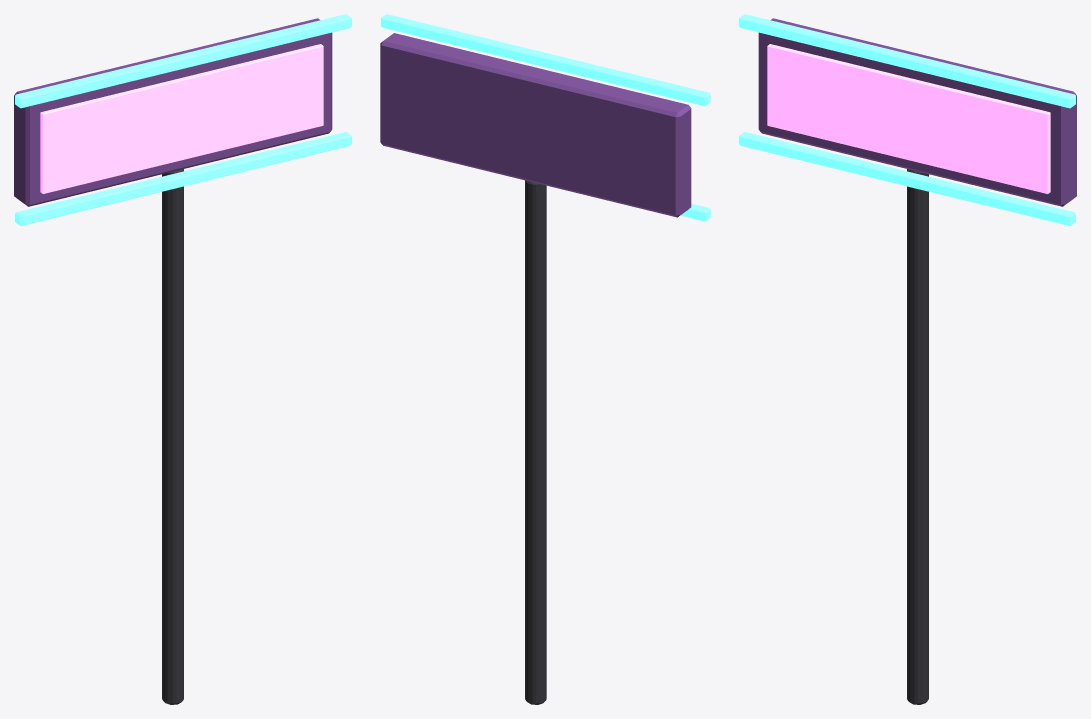
3 views of the same model, side by side, from view 1: azimuth 30°, elevation 25°; view 2: azimuth 150°, elevation 25°; view 3: azimuth 330°, elevation 25° (orthographic). The views are drawn at different scales.
Parts seen in each view (by area): view 1: ArcadeSign; view 2: ArcadeSign; view 3: ArcadeSign.
Part boxes in pixels (x1,y1,x2,y2): ArcadeSign: (14,14,351,704); ArcadeSign: (380,14,710,704); ArcadeSign: (739,14,1076,704).
Size of the model in its own units: 1.3 by 2.44 by 0.14.
